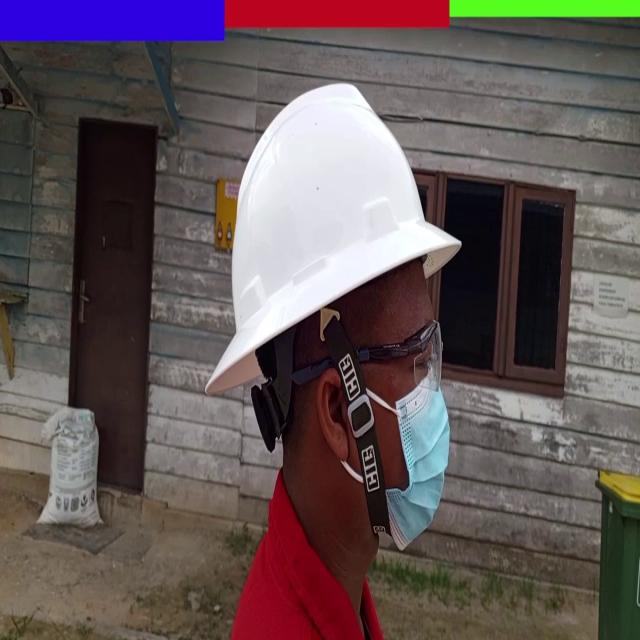Hardhat: (205, 76, 464, 395)
Mask: (384, 378, 452, 550)
Strapped: (318, 302, 394, 543)
